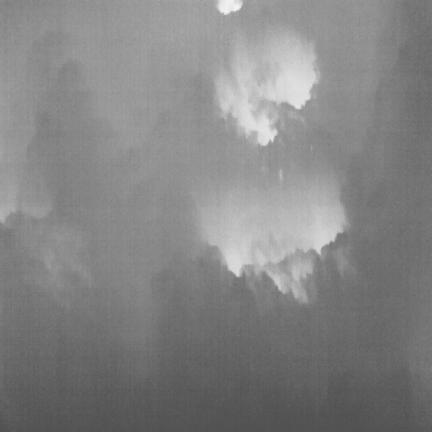flukeprints: (217, 0, 242, 14)
